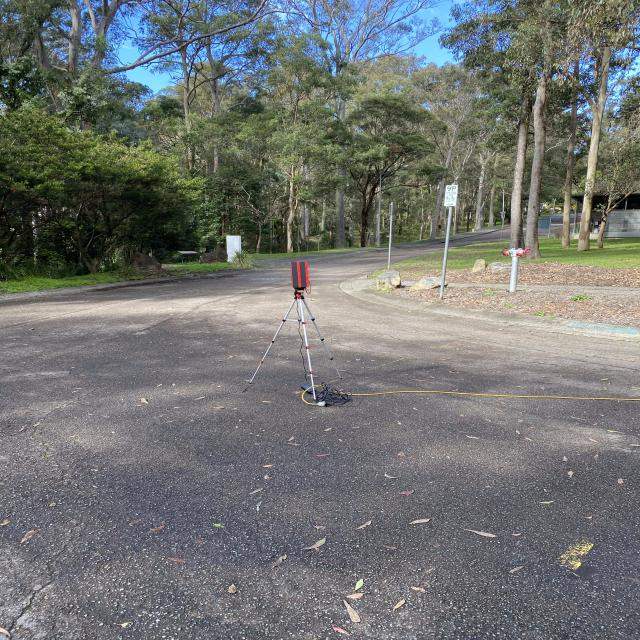matrix: (287, 261, 311, 292)
